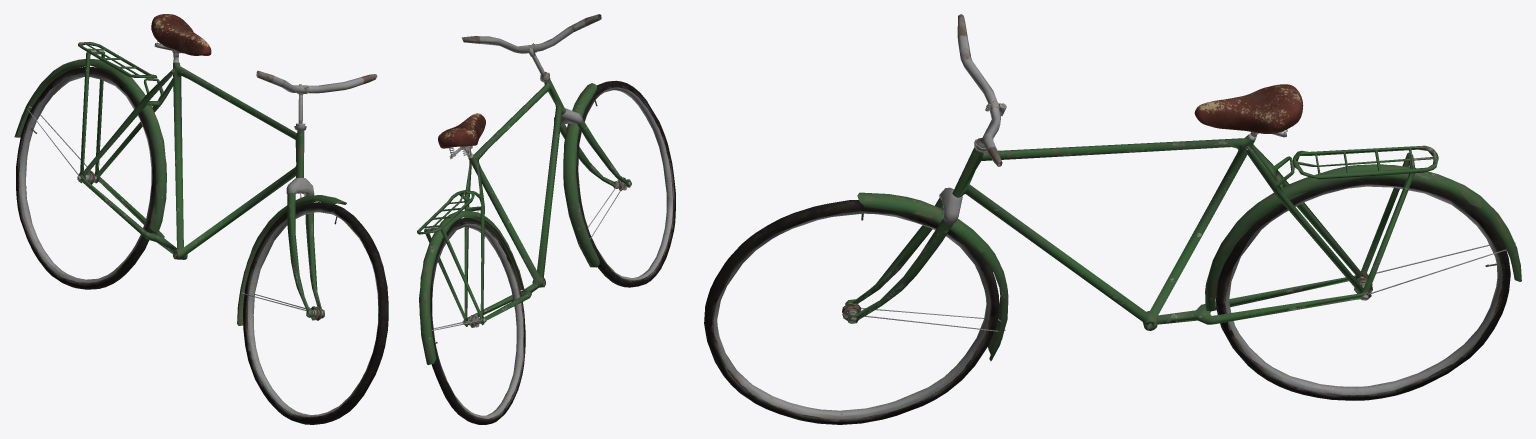
The model's file is prop_bike.glb.
3 views of the same model, side by side, from view 1: azimuth 30°, elevation 25°; view 2: azimuth 150°, elevation 25°; view 3: azimuth 270°, elevation 25° (orthographic). The views are drawn at different scales.
Visible parts, largest first — view 1: wheel_rear.005_Byc_Set_4_0, wheel_rear.004_Byc_Set_1_0, byc_seat.001_Byc_Set_3_0; view 2: wheel_rear.005_Byc_Set_4_0, wheel_rear.004_Byc_Set_1_0, byc_seat.001_Byc_Set_3_0; view 3: wheel_rear.005_Byc_Set_4_0, wheel_rear.004_Byc_Set_1_0, byc_seat.001_Byc_Set_3_0.
Boxes of the visible parts, bbox=[...] form: wheel_rear.005_Byc_Set_4_0: bbox=[14, 42, 377, 325]; wheel_rear.004_Byc_Set_1_0: bbox=[16, 67, 388, 424]; byc_seat.001_Byc_Set_3_0: bbox=[151, 14, 211, 62]; wheel_rear.005_Byc_Set_4_0: bbox=[417, 14, 631, 364]; wheel_rear.004_Byc_Set_1_0: bbox=[422, 80, 675, 424]; byc_seat.001_Byc_Set_3_0: bbox=[438, 113, 485, 159]; wheel_rear.005_Byc_Set_4_0: bbox=[845, 14, 1521, 360]; wheel_rear.004_Byc_Set_1_0: bbox=[704, 179, 1515, 424]; byc_seat.001_Byc_Set_3_0: bbox=[1194, 84, 1303, 139].
Size of the model in its own units: 0.5967 by 0.9833 by 1.75.
3 materials, 3 textured.
